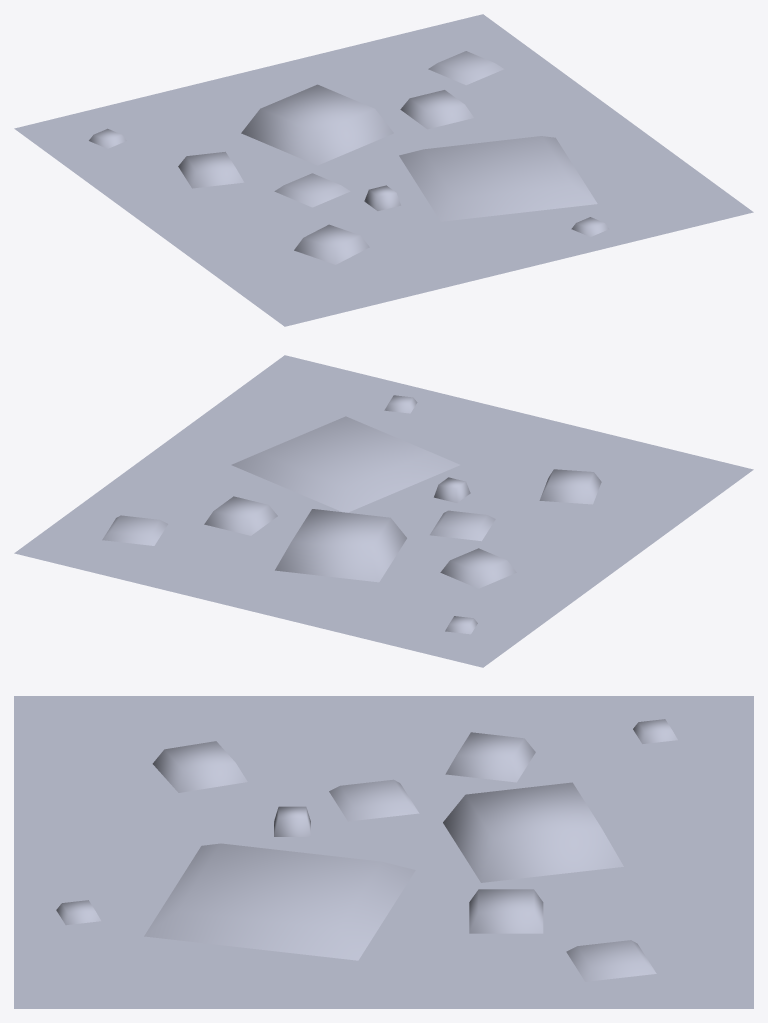
File: floor-detail.glb
3 renders of one model, top to bottom at view 1: azimuth 30°, elevation 25°; view 2: azimuth 150°, elevation 25°; view 3: azimuth 270°, elevation 25°, orthographic. The views are drawn at different scales.
Parts seen in each view (by area): view 1: floor-detail; view 2: floor-detail; view 3: floor-detail.
Part boxes in pixels (bbox=[...]): floor-detail: bbox=[14, 14, 753, 326]; floor-detail: bbox=[14, 355, 753, 667]; floor-detail: bbox=[14, 696, 753, 1008].
Size of the model in its own units: 1 by 0.05 by 1.
